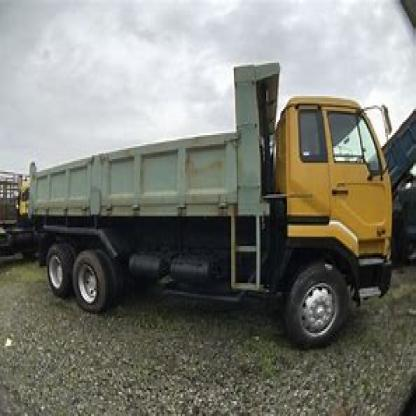dump_truck: (21, 57, 399, 348)
